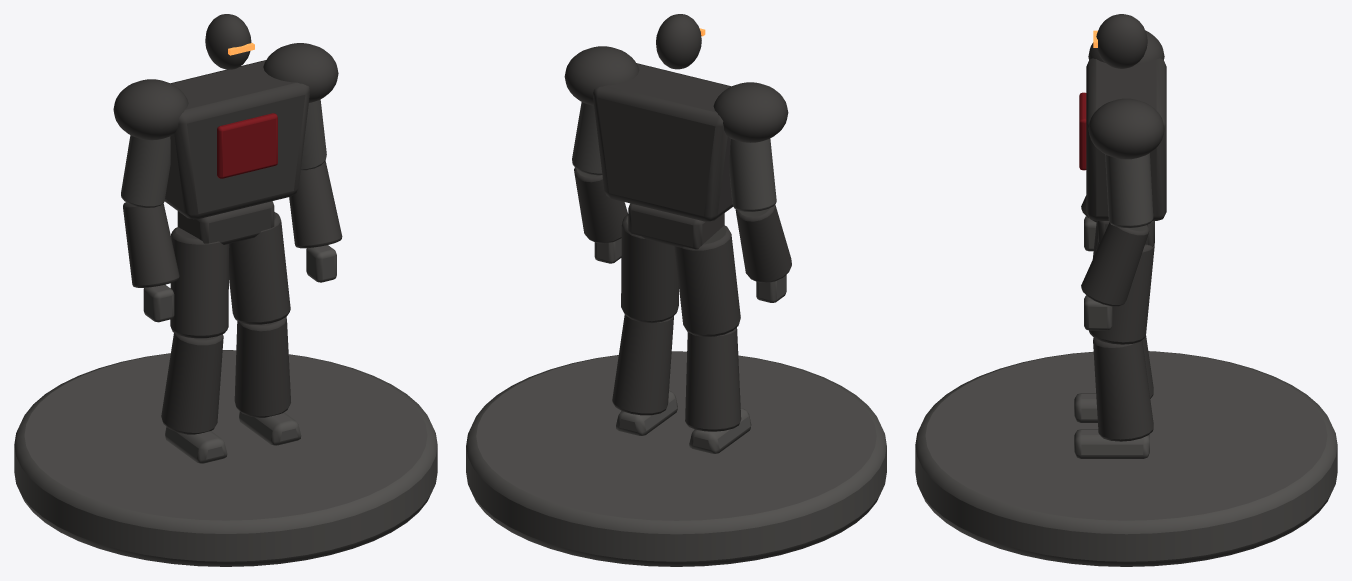
Rendered from covenant_frame_scout.glb.
3 renders of one model, left to right at view 1: azimuth 30°, elevation 25°; view 2: azimuth 150°, elevation 25°; view 3: azimuth 270°, elevation 25°, orthographic.
Parts seen in each view (by area): view 1: standin_base, t, standin_thigh_R, standin_shin_R, standin_thigh_L, standin_shin_L, standin_forearm_R, standin_pauldron_R, standin_forearm_L, tp, standin_arm_R, standin_pauldron_L (+7 smaller); view 2: standin_base, t, standin_thigh_R, standin_shin_R, standin_shin_L, standin_thigh_L, standin_pauldron_R, standin_forearm_R, standin_arm_R, standin_pauldron_L, standin_pelvis, standin_forearm_L (+6 smaller); view 3: standin_base, t, standin_shin_L, standin_pauldron_L, standin_forearm_L, standin_arm_L, standin_thigh_L, h, standin_foot_L, standin_hand_L, standin_foot_R, standin_pauldron_R (+1 smaller).
Boxes of the visible parts, x1,y1,x2,y2 form: standin_base: [14, 350, 437, 566]; t: [164, 60, 309, 219]; standin_thigh_R: [170, 227, 229, 338]; standin_shin_R: [161, 333, 223, 434]; standin_thigh_L: [229, 212, 290, 324]; standin_shin_L: [234, 317, 290, 417]; standin_forearm_R: [123, 202, 179, 287]; standin_pauldron_R: [113, 79, 188, 140]; standin_forearm_L: [289, 161, 342, 248]; tp: [217, 113, 277, 178]; standin_arm_R: [121, 135, 170, 207]; standin_pauldron_L: [263, 43, 338, 102]; standin_base: [466, 351, 886, 566]; t: [593, 63, 733, 221]; standin_thigh_R: [674, 225, 740, 336]; standin_shin_R: [685, 327, 741, 431]; standin_shin_L: [612, 314, 673, 415]; standin_thigh_L: [621, 214, 678, 323]; standin_pauldron_R: [713, 82, 788, 142]; standin_forearm_R: [735, 204, 791, 282]; standin_arm_R: [729, 139, 776, 211]; standin_pauldron_L: [564, 46, 639, 105]; standin_pelvis: [628, 203, 724, 249]; standin_forearm_L: [574, 167, 627, 243]; standin_base: [915, 351, 1337, 566]; t: [1086, 58, 1166, 220]; standin_shin_L: [1093, 338, 1153, 441]; standin_pauldron_L: [1088, 98, 1164, 159]; standin_forearm_L: [1081, 222, 1149, 306]; standin_arm_L: [1105, 153, 1153, 227]; standin_thigh_L: [1089, 238, 1154, 344]; h: [1096, 14, 1147, 68]; standin_foot_L: [1074, 429, 1149, 458]; standin_hand_L: [1084, 295, 1112, 330]; standin_foot_R: [1074, 393, 1097, 422]; standin_pauldron_R: [1088, 30, 1164, 65].
Bounding box in the file's own units: 25 × 30.45 × 25.
